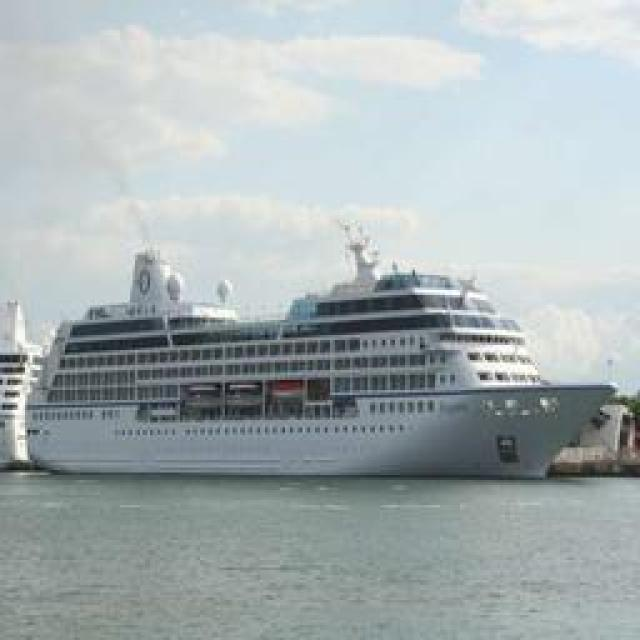CIV_Ship: (36, 226, 622, 482)
